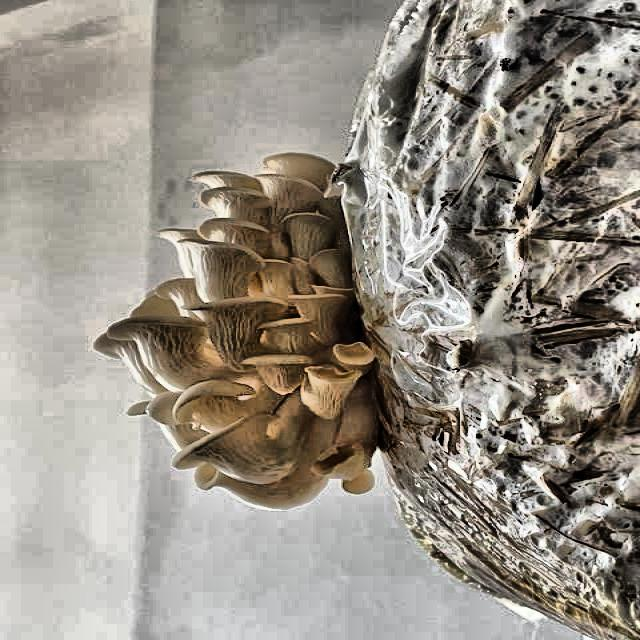Healthy: (38, 144, 408, 515)
